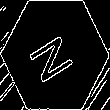N_NE: (27, 25, 83, 85)
